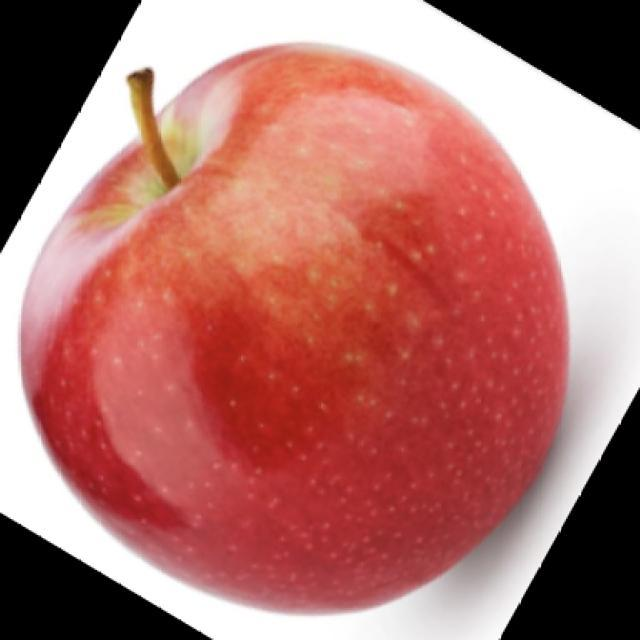Fresh Apple: (38, 50, 562, 602)
